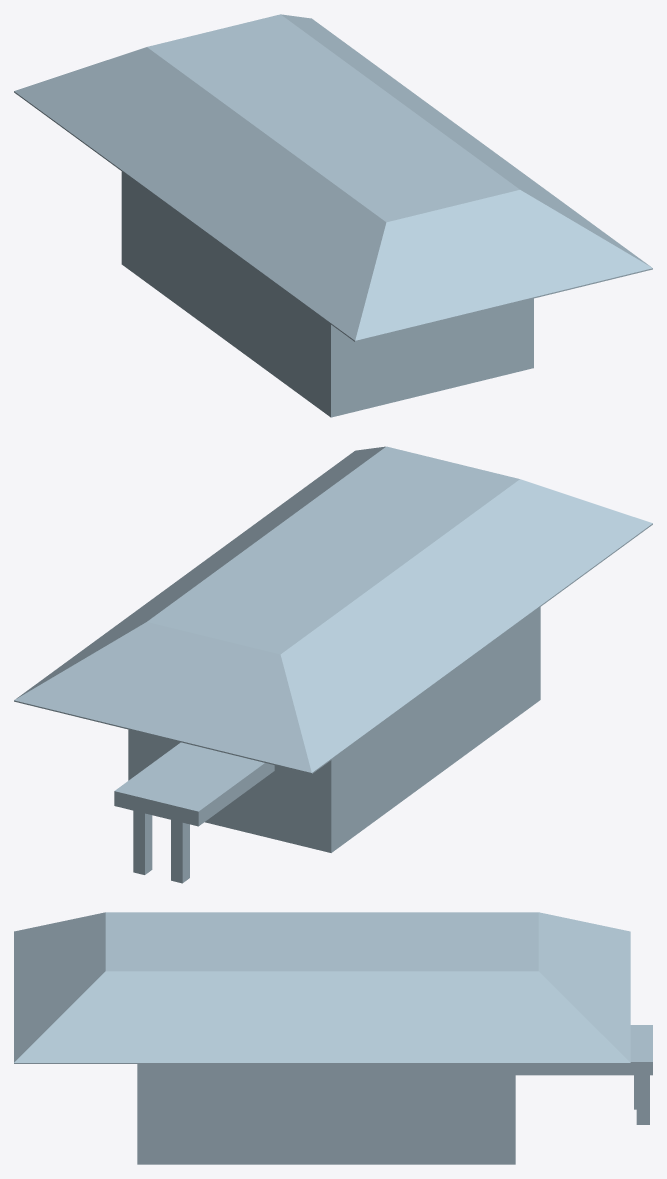
Rendered from Housing11Nav.glb.
The picture shows the model from 3 angles, top to bottom: view 1: azimuth 30°, elevation 25°; view 2: azimuth 150°, elevation 25°; view 3: azimuth 270°, elevation 25°; orthographic projection. The views are drawn at different scales.
Parts seen in each view (by area): view 1: Cube.001, Cube; view 2: Cube.001, Cube, Cube.003, Cube.004, Cube.005; view 3: Cube.001, Cube, Cube.003, Cube.004.
Boxes of the visible parts, left/top/right/bottom form: Cube.001: left=14, top=14, right=652, bottom=341; Cube: left=121, top=171, right=533, bottom=417; Cube.001: left=14, top=446, right=652, bottom=774; Cube: left=128, top=607, right=540, bottom=852; Cube.003: left=114, top=742, right=274, bottom=826; Cube.004: left=133, top=810, right=152, bottom=874; Cube.005: left=171, top=820, right=189, bottom=883; Cube.001: left=14, top=912, right=630, bottom=1063; Cube: left=137, top=1064, right=515, bottom=1164; Cube.003: left=515, top=1025, right=652, bottom=1075; Cube.004: left=636, top=1075, right=649, bottom=1124.
Size of what is drawn, in the model's own units: 4.11 by 2.62 by 8.44.
